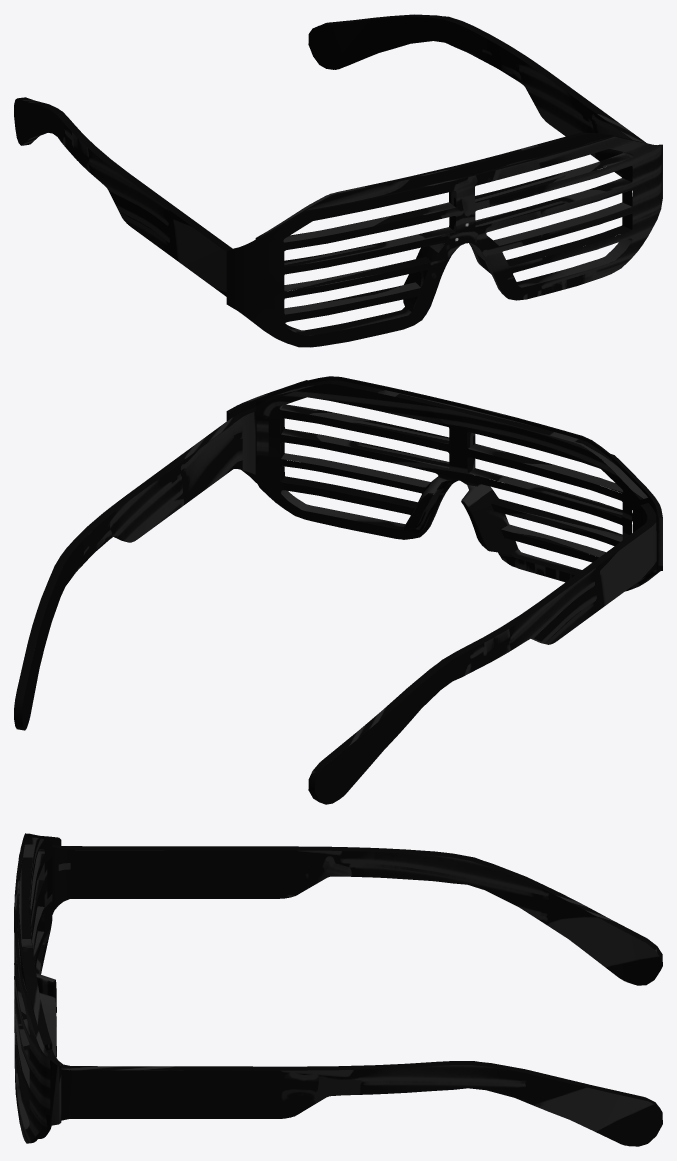
The model's file is partyGlasses.fbx.
3 renders of one model, top to bottom at view 1: azimuth 30°, elevation 25°; view 2: azimuth 150°, elevation 25°; view 3: azimuth 270°, elevation 25°, orthographic. The views are drawn at different scales.
Visible parts, largest first — view 1: Cube.002; view 2: Cube.002; view 3: Cube.002.
Boxes of the visible parts, x1,y1,x2,y2 form: Cube.002: (14,14,662,347); Cube.002: (14,376,662,804); Cube.002: (14,833,662,1146).
Size of the model in its own units: 64.35 by 21.1 by 76.96.
